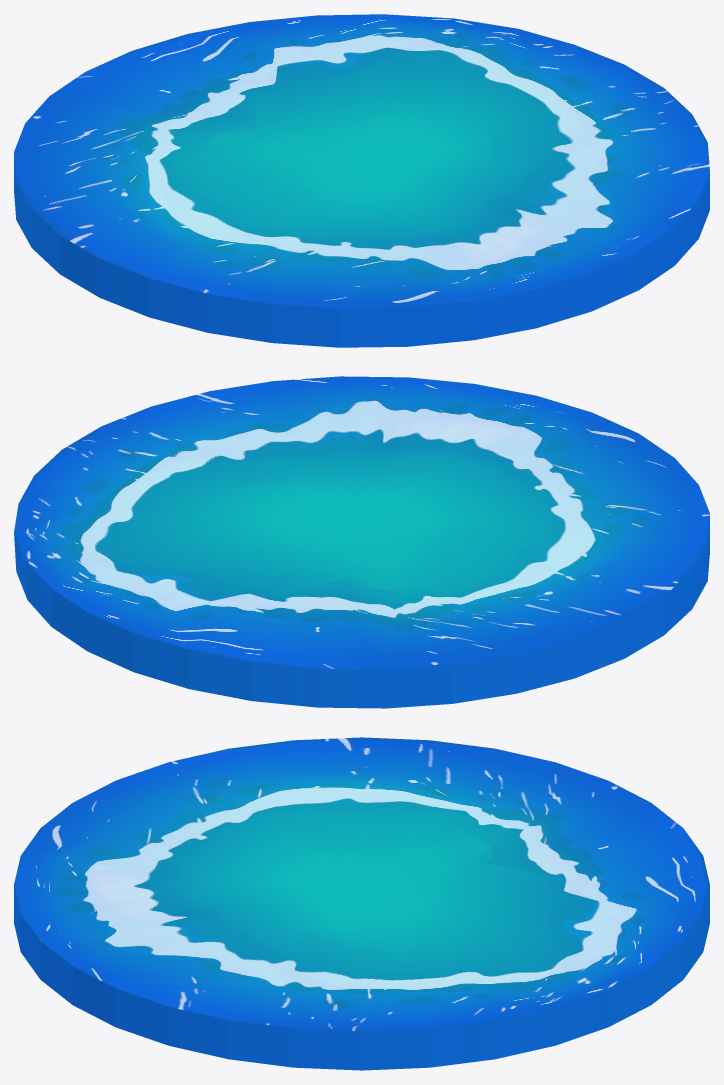
File: Ocean.glb
3 renders of one model, top to bottom at view 1: azimuth 30°, elevation 25°; view 2: azimuth 150°, elevation 25°; view 3: azimuth 270°, elevation 25°, orthographic.
Parts seen in each view (by area): view 1: Ocean; view 2: Ocean; view 3: Ocean.
Boxes of the visible parts, left/top/right/bottom form: Ocean: left=14, top=14, right=709, bottom=347; Ocean: left=14, top=376, right=709, bottom=708; Ocean: left=14, top=737, right=709, bottom=1070.
Size of the model in its own units: 102 by 6.35 by 102.
1 material, 1 textured.
